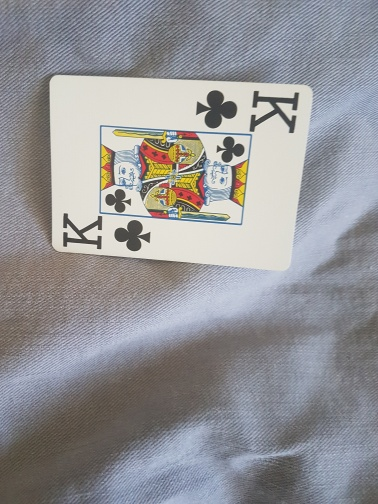king: (50, 75, 312, 269)
